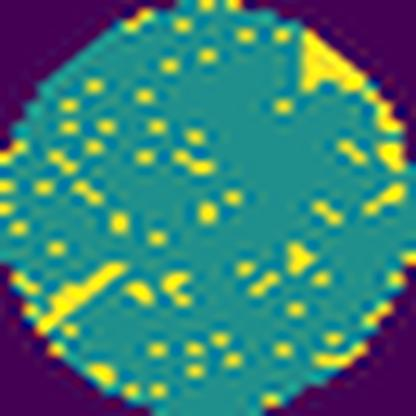Edge-Loc: (37, 258, 128, 340), (297, 25, 368, 101)
